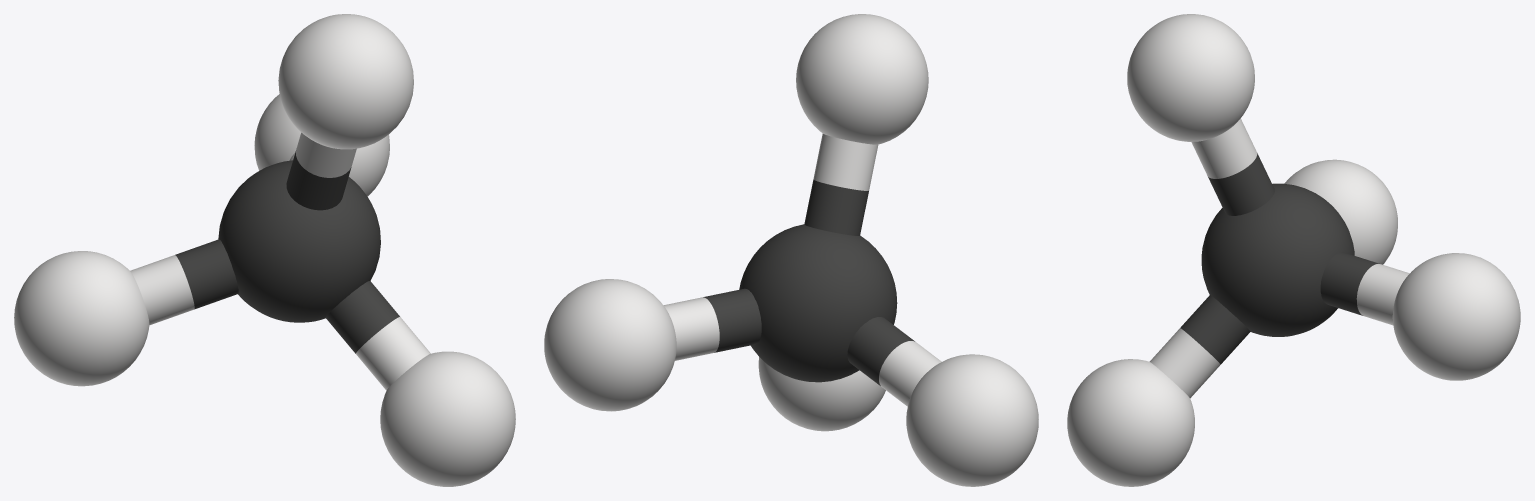
3 views of the same model, side by side, from view 1: azimuth 30°, elevation 25°; view 2: azimuth 150°, elevation 25°; view 3: azimuth 270°, elevation 25° (orthographic). The views are drawn at different scales.
Parts seen in each view (by area): view 1: S3; view 2: S3; view 3: S3.
Part boxes in pixels (<box>): S3: <box>14,14,515,486</box>; S3: <box>544,14,1038,486</box>; S3: <box>1067,14,1520,486</box>.
Bounding box in the file's own units: 25.18 × 25.86 × 24.8.
